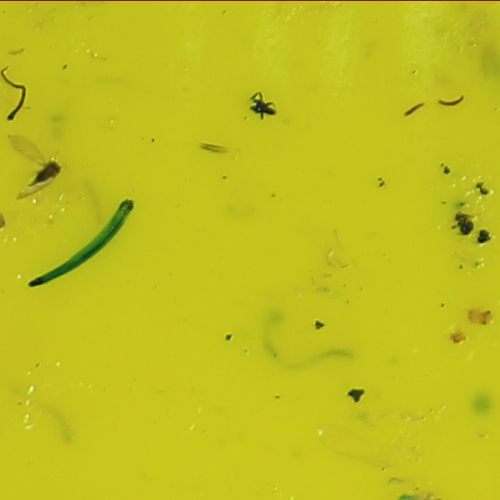psylla: (25, 157, 67, 187)
